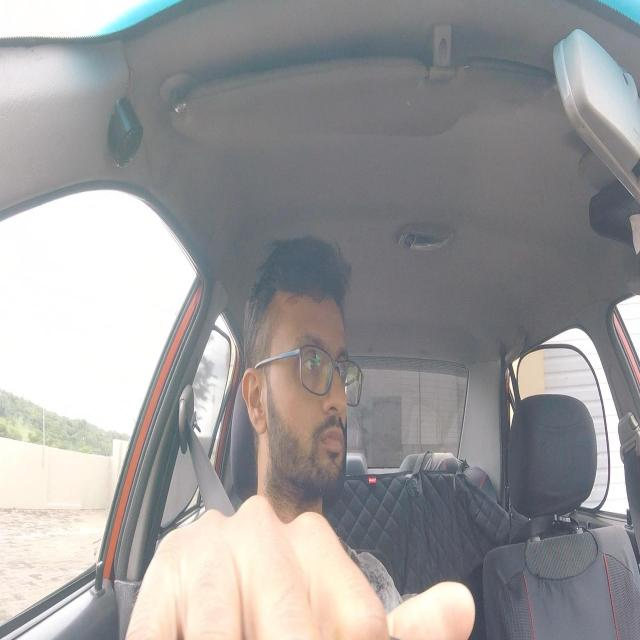open: (293, 328, 331, 388)
